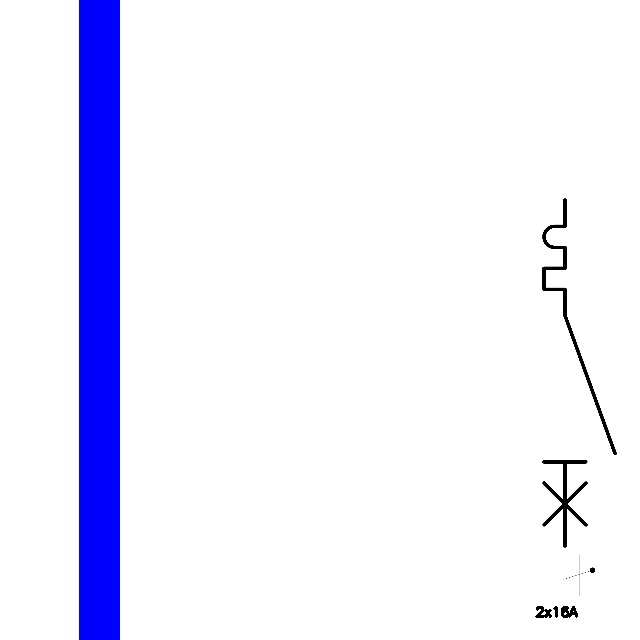interruptor_termomagnetico: (535, 191, 624, 555)
